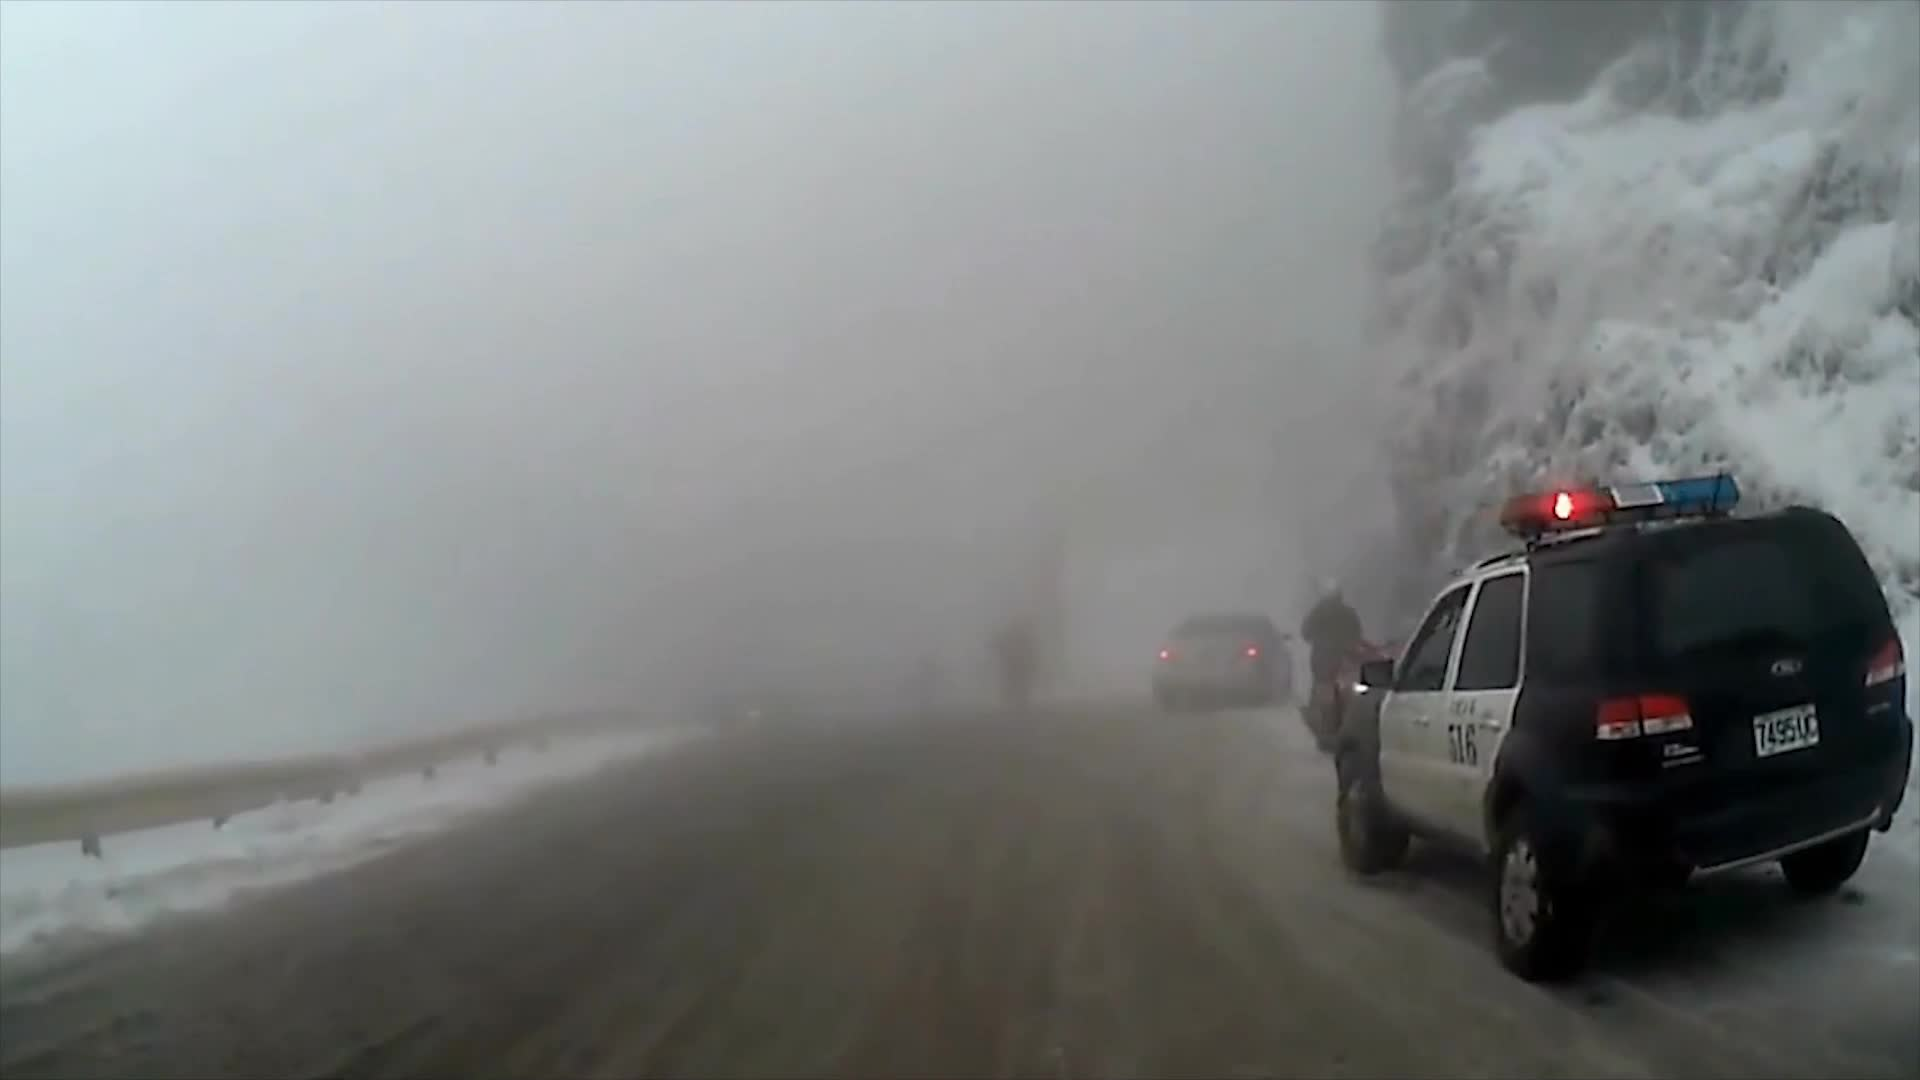pedestrian: (1300, 575, 1377, 740)
vehicle: (1334, 466, 1911, 979), (1154, 609, 1297, 712)
